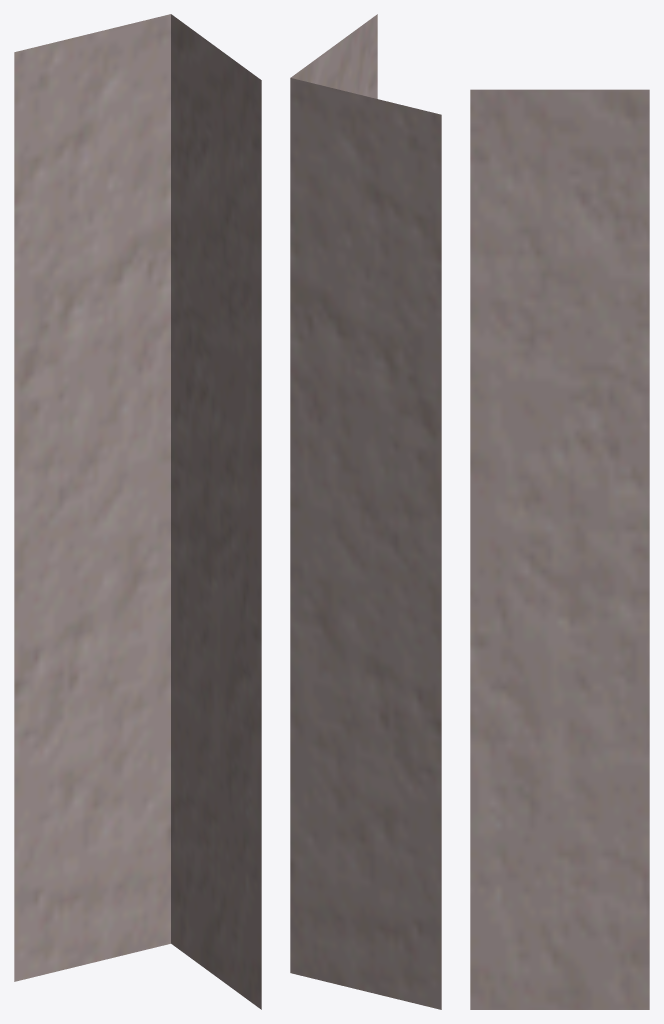
File: W_A1_Eckverschluß [Stein]_545.glb
3 renders of one model, left to right at view 1: azimuth 30°, elevation 25°; view 2: azimuth 150°, elevation 25°; view 3: azimuth 270°, elevation 25°, orthographic. The views are drawn at different scales.
Parts seen in each view (by area): view 1: pPlaneShape7; view 2: pPlaneShape7; view 3: pPlaneShape7.
Part boxes in pixels (x1,y1,x2,y2): pPlaneShape7: (14,14,261,1009); pPlaneShape7: (290,14,441,1009); pPlaneShape7: (470,89,649,1009).
Bounding box in the file's own units: 0.0615 × 0.3486 × 0.0615.
Materials: 1 (1 with a texture image).
